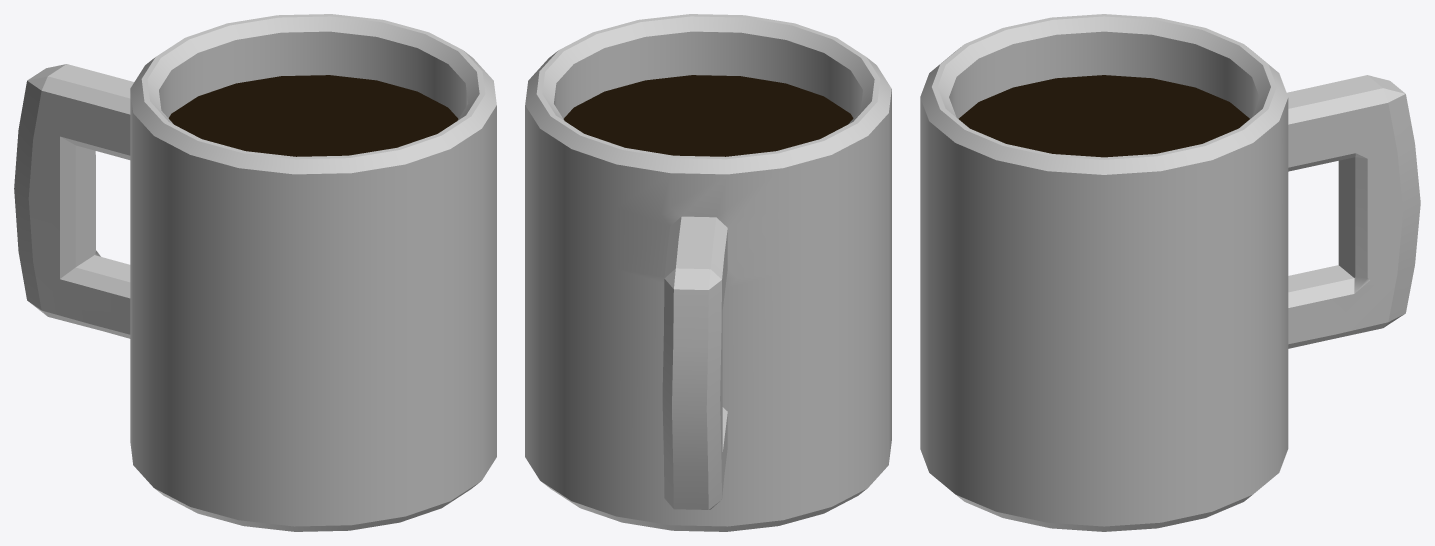
File: Cup_Of_Coffee.fbx
3 views of the same model, side by side, from view 1: azimuth 30°, elevation 25°; view 2: azimuth 150°, elevation 25°; view 3: azimuth 270°, elevation 25° (orthographic).
Parts seen in each view (by area): view 1: pasted__pCylinder3; view 2: pasted__pCylinder3; view 3: pasted__pCylinder3.
Boxes of the visible parts, x1,y1,x2,y2 form: pasted__pCylinder3: (14,14,496,531); pasted__pCylinder3: (525,14,891,531); pasted__pCylinder3: (920,14,1420,531).
Bounding box in the file's own units: 0.2589 × 0.2888 × 0.3521.
